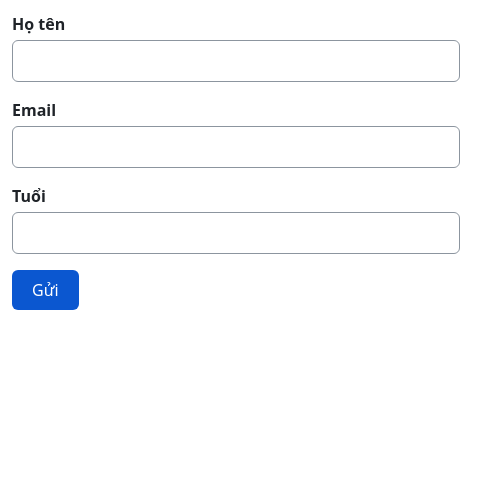
SimpleForm › submit hợp lệ → hiện inspector <dl class="json-inspector"> với dữ liệu đã gửi
Step 1. Type "Nguyễn Văn An" into the field labelled "Họ tên" → coordinates (236, 61), box [12, 40, 460, 82]
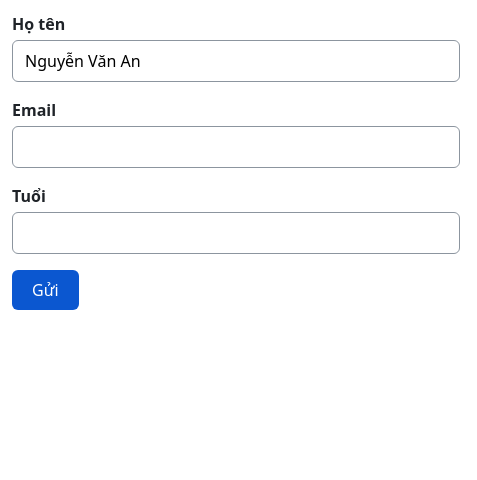
Step 2. Type "an@example.com" into the field labelled "Email" → coordinates (236, 147), box [12, 126, 460, 168]
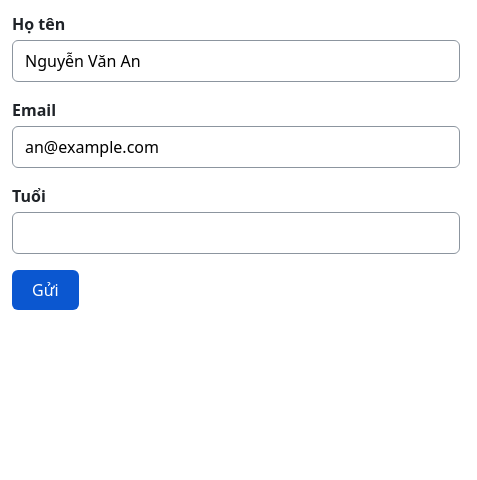
Step 3. Type "25" into the field labelled "Tuổi" → coordinates (236, 233), box [12, 212, 460, 254]
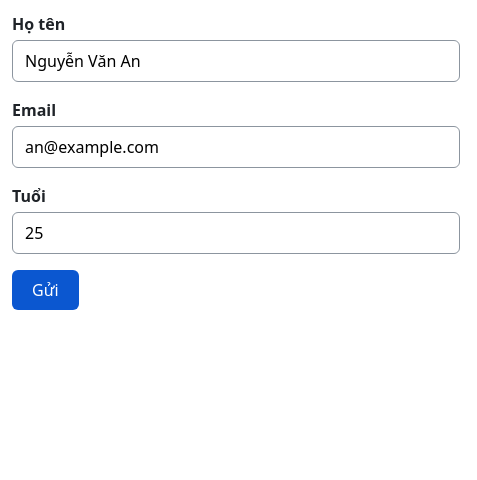
Step 4. Click the button "Gửi" → coordinates (45, 290), box [12, 270, 79, 310]
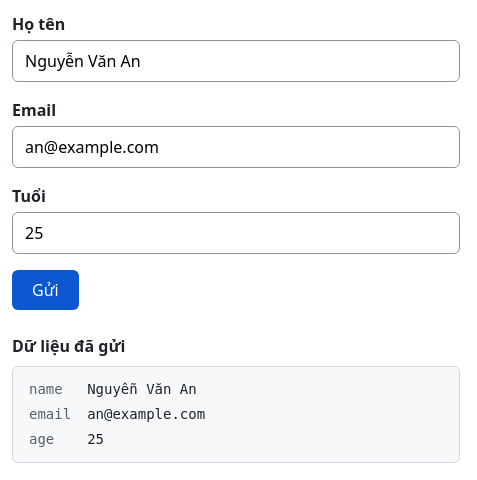
Check: the heading "Dữ liệu đã gửi" is shown, box [12, 335, 125, 357]
Check: the element with class "json-inspector" is shown, box [12, 366, 460, 463]
Check: the text "Nguyễn Văn An" is shown, box [87, 381, 197, 397]
